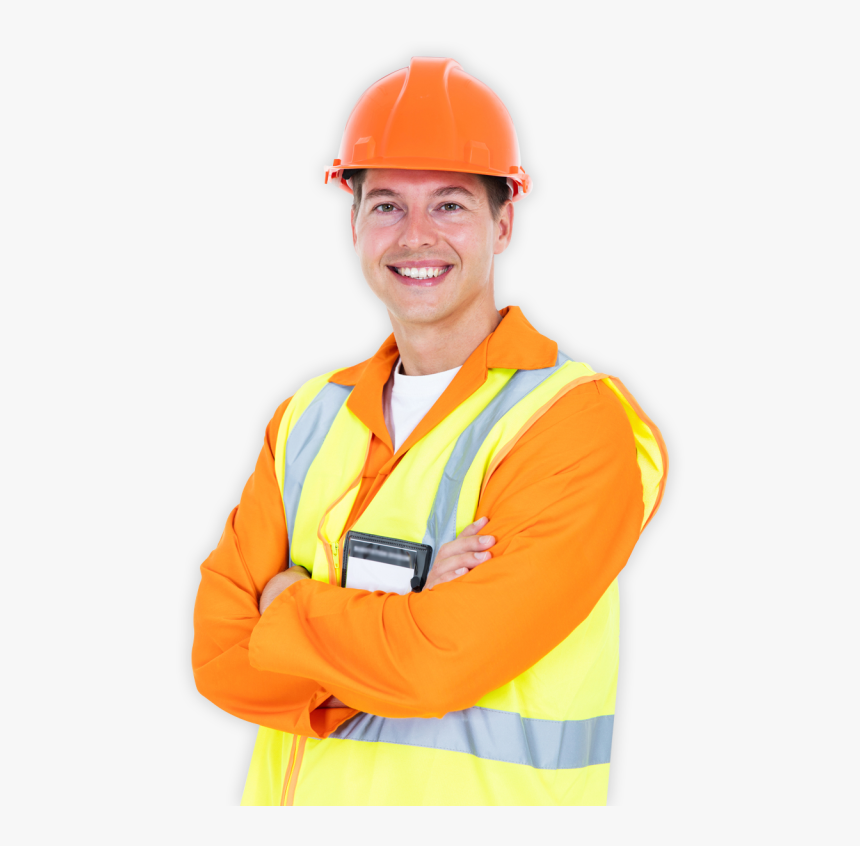Person_wearing_helmet: (314, 49, 539, 228)
